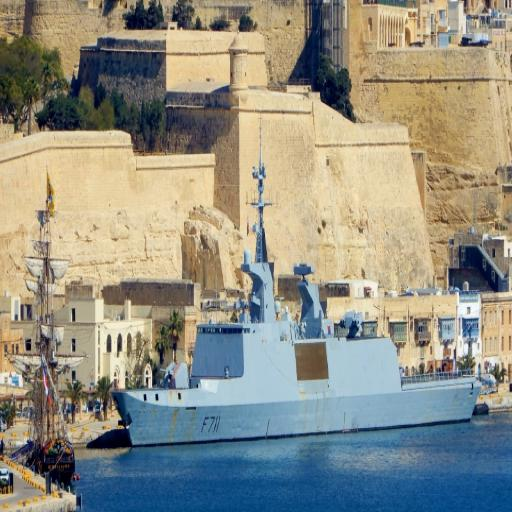Fragata: (109, 112, 482, 452)
